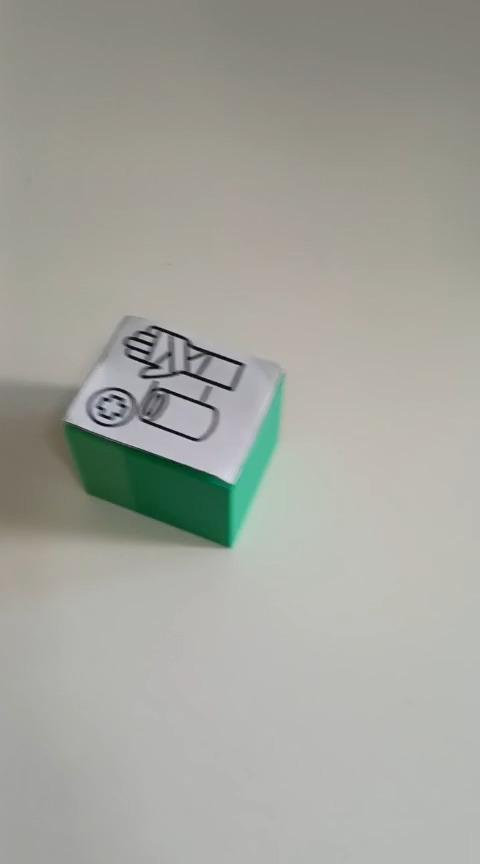Bandages: (61, 313, 286, 548)
